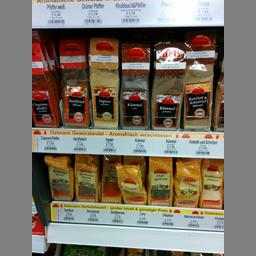spices: (180, 36, 212, 126), (87, 38, 119, 127), (57, 38, 89, 126), (119, 43, 151, 128), (150, 41, 180, 127), (30, 34, 58, 126), (44, 154, 74, 200), (114, 161, 146, 202), (74, 154, 100, 201), (148, 156, 172, 204), (174, 158, 199, 204), (200, 159, 223, 208)
